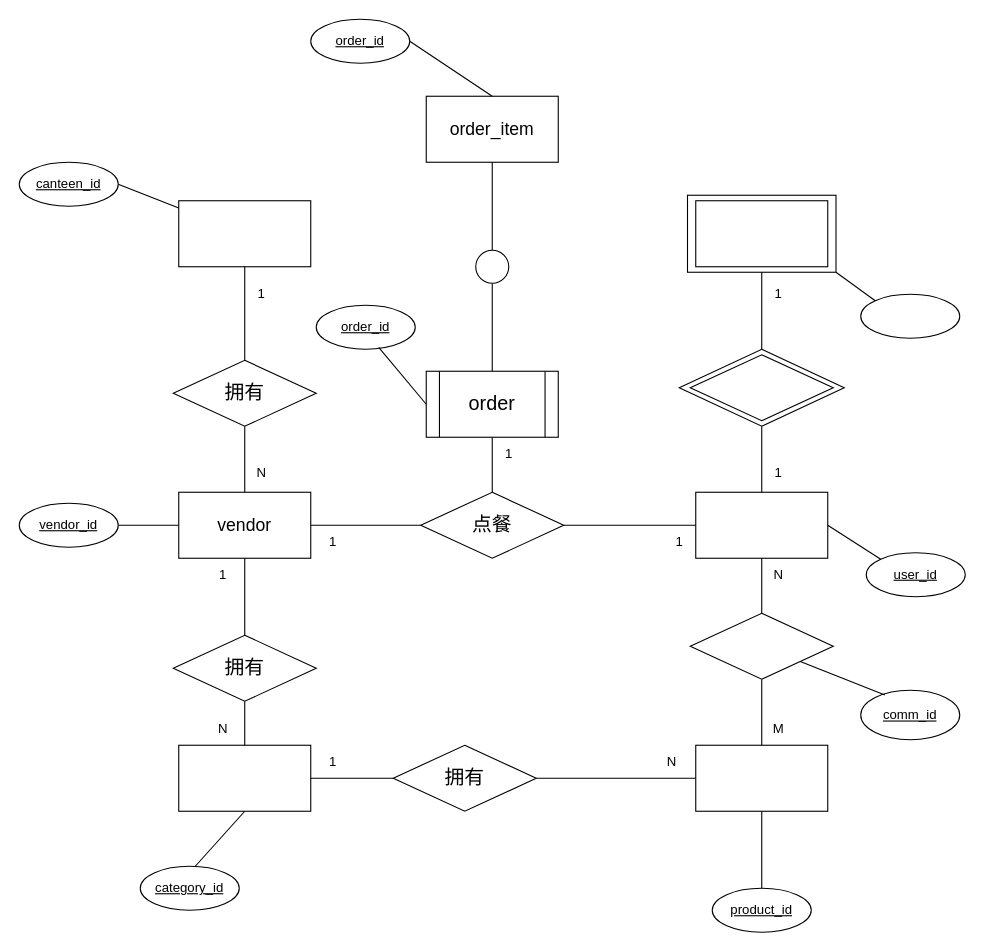
Some shapes in this 985 by 952 pixel diagram are drawn without their labels. The box of each missing label's shape, as (x1, y1, x2, y2) in pixels:
canteen: (178, 200, 311, 267)
catergory: (178, 744, 311, 811)
exp_phone: (695, 200, 828, 267)
id: (860, 293, 960, 338)
peoducts: (695, 744, 828, 811)
users: (695, 491, 828, 558)
属于: (689, 354, 833, 421)
评价: (689, 612, 833, 679)
